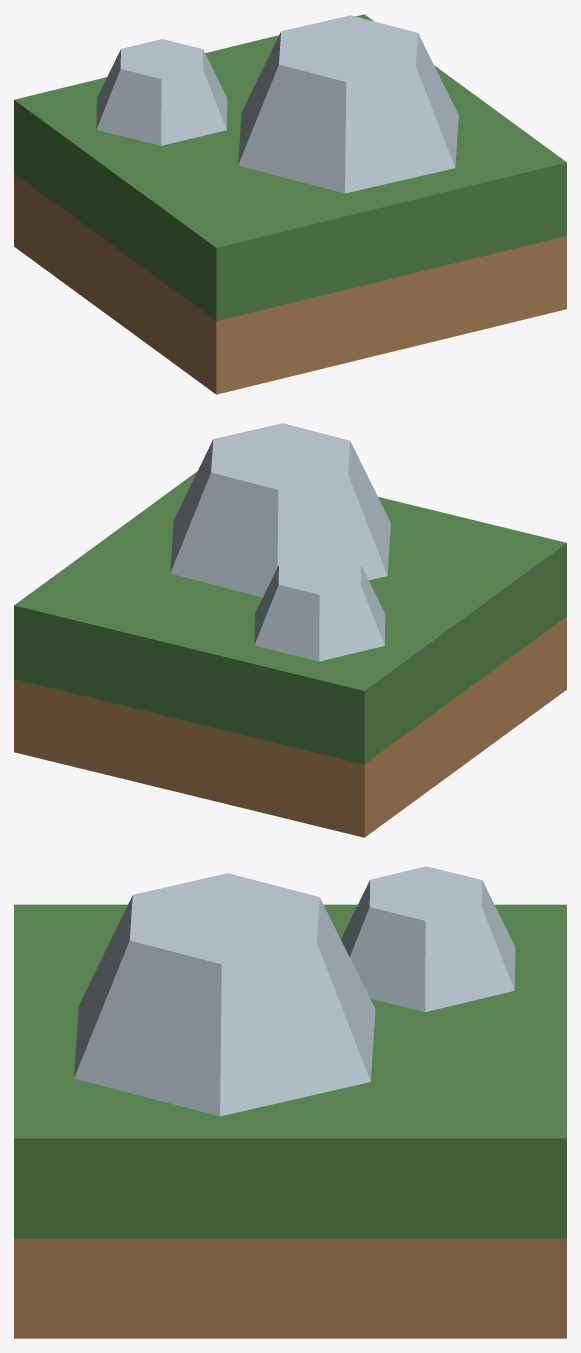
File: tile_073.fbx
3 renders of one model, top to bottom at view 1: azimuth 30°, elevation 25°; view 2: azimuth 150°, elevation 25°; view 3: azimuth 270°, elevation 25°, orthographic. The views are drawn at different scales.
Parts seen in each view (by area): view 1: tile_073, Group (×2); view 2: tile_073, Group (×2); view 3: tile_073, Group (×2).
Part boxes in pixels (left/top/right/bottom): tile_073: left=14, top=14, right=566, bottom=394; Group (×2): left=96, top=15, right=458, bottom=193; tile_073: left=14, top=471, right=566, bottom=837; Group (×2): left=170, top=423, right=390, bottom=661; tile_073: left=14, top=904, right=566, bottom=1338; Group (×2): left=74, top=866, right=515, bottom=1116.
Bounding box in the file's own units: 10 × 6.5 × 10.
